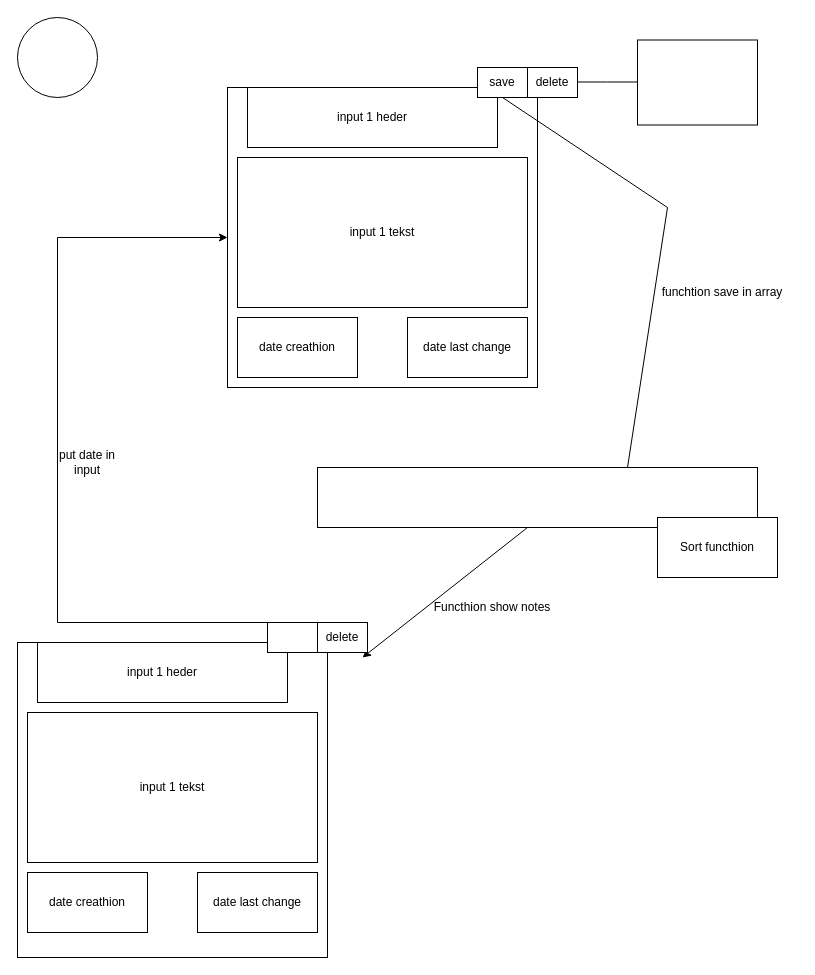
This 815x975 diagram has some shape labels left out. Here are the shapes that lost their labels. From the top down, the box of each, then its label:
(16, 16, 98, 98): 1 try
(636, 39, 758, 125): clean -input 1 -input 2 date 1 date 2
(316, 466, 758, 528): array with object [header, tekst, date1,date2
(266, 622, 318, 652): change
